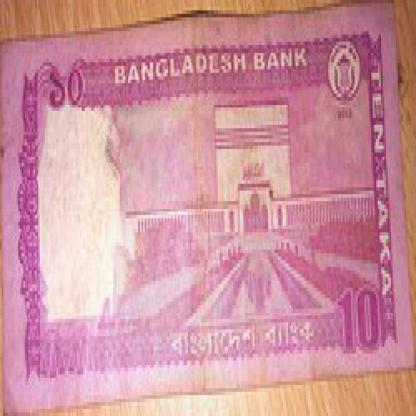Ten Taka: (328, 267, 384, 347), (42, 59, 96, 114)
